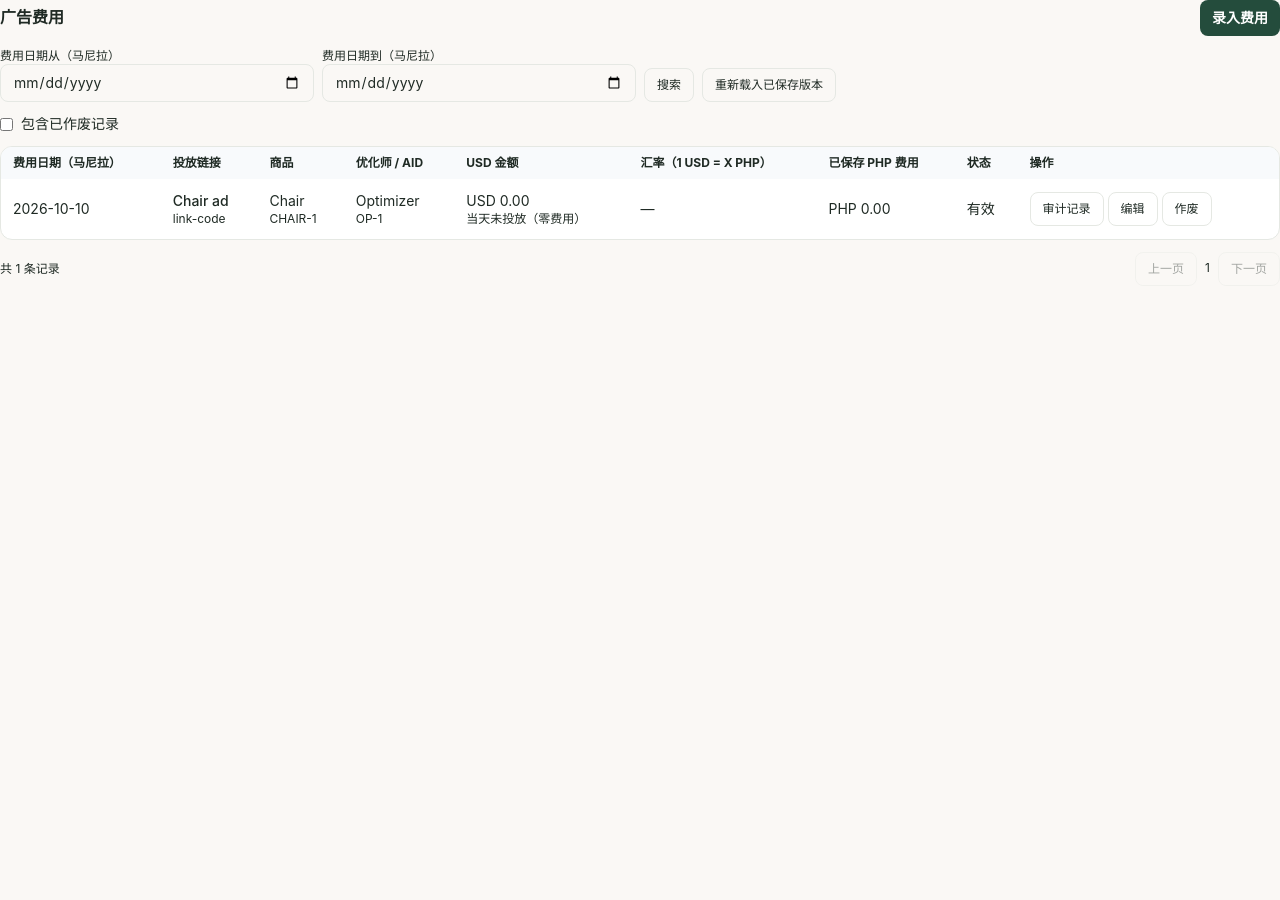
Test case: advertising expense workbench › loads the saved link context before opening its expense form
Expected: the text "Chair ad" is shown, [173, 192, 229, 209]
Click the button "录入费用" at {"x": 1240, "y": 18}, box [1200, 0, 1279, 36]
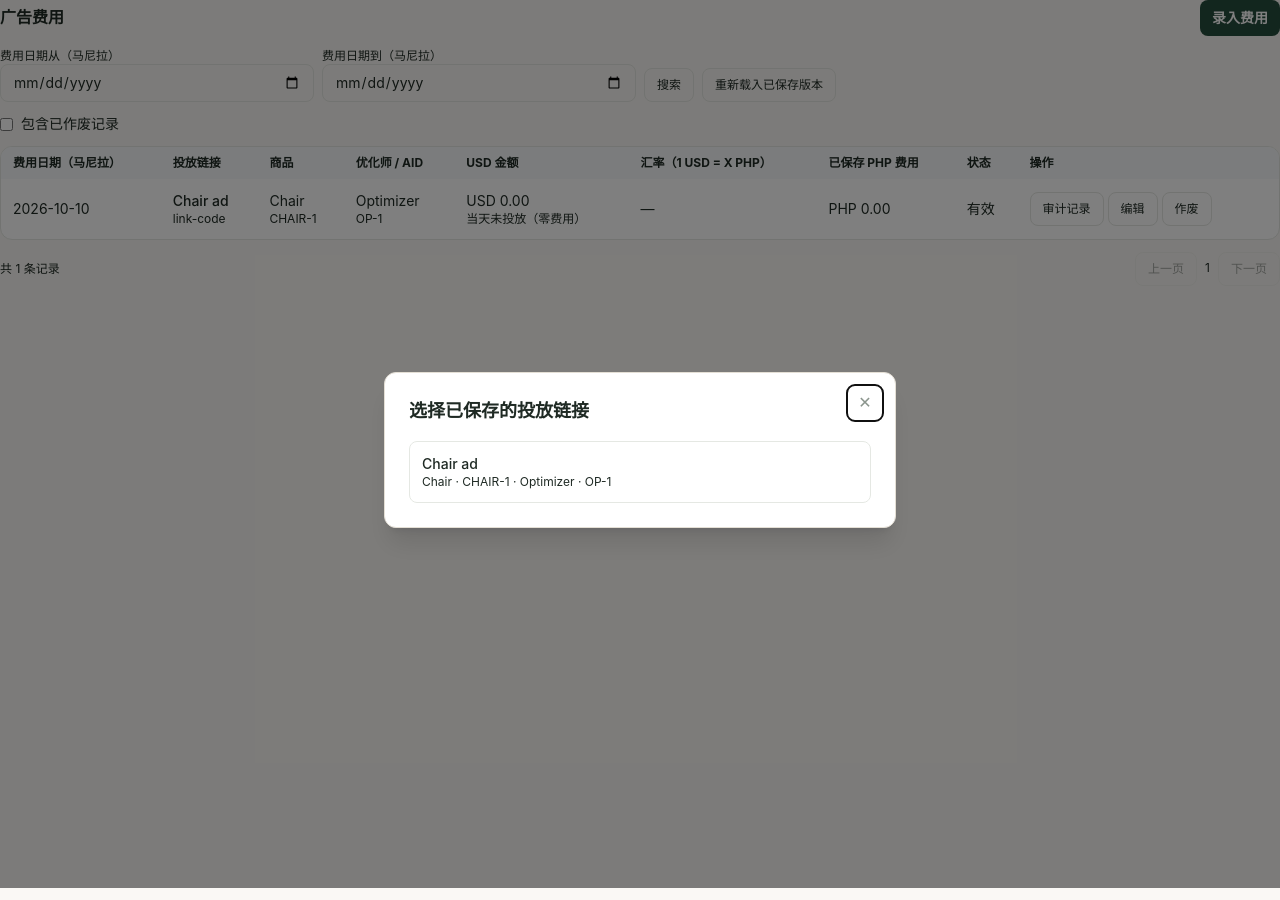
Click the button "Chair ad Chair · CHAIR-1 · Optimizer · OP-1" at {"x": 450, "y": 464}, box [409, 441, 871, 503]
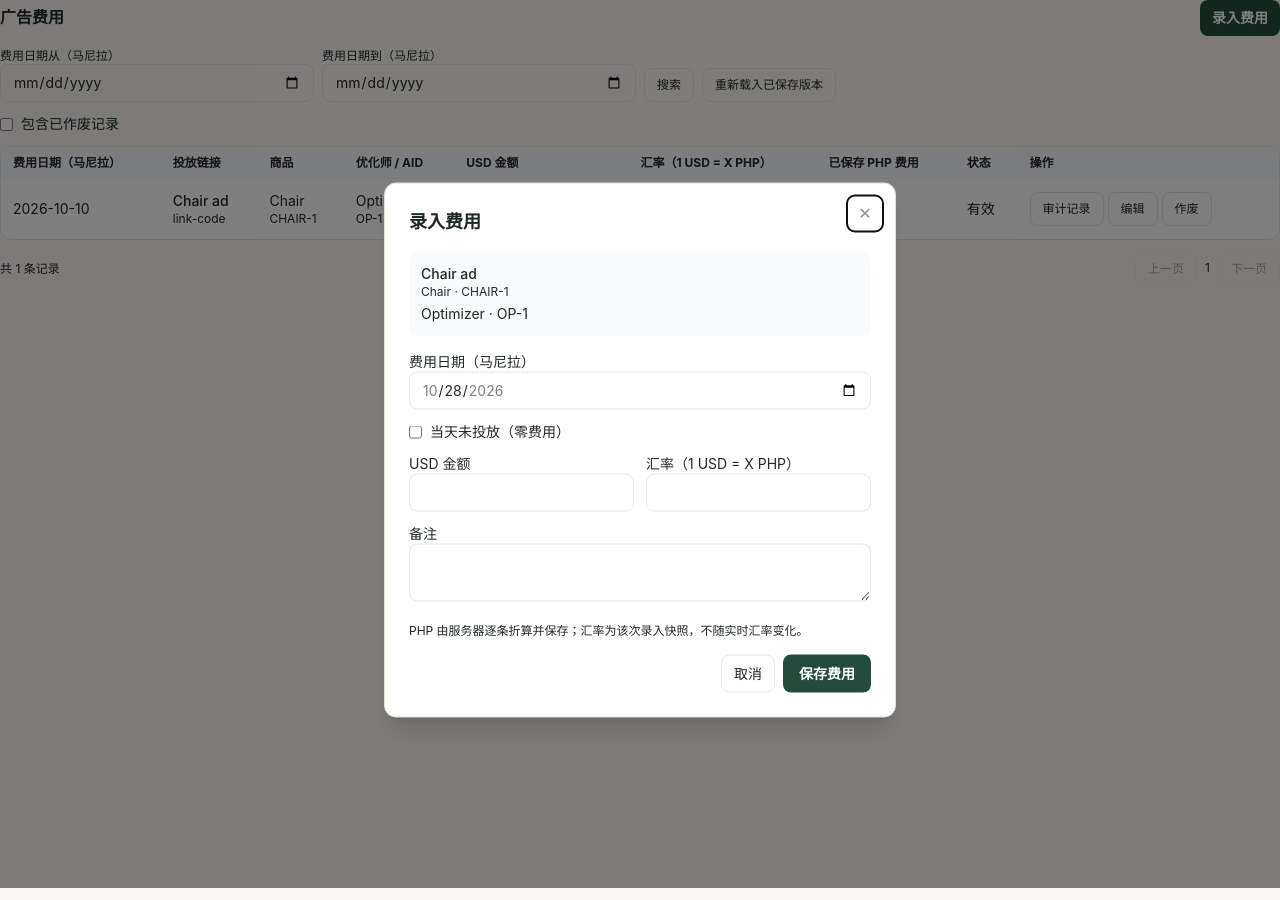
Now the date field labelled "费用日期（马尼拉）" is shown, box [409, 372, 871, 410]
